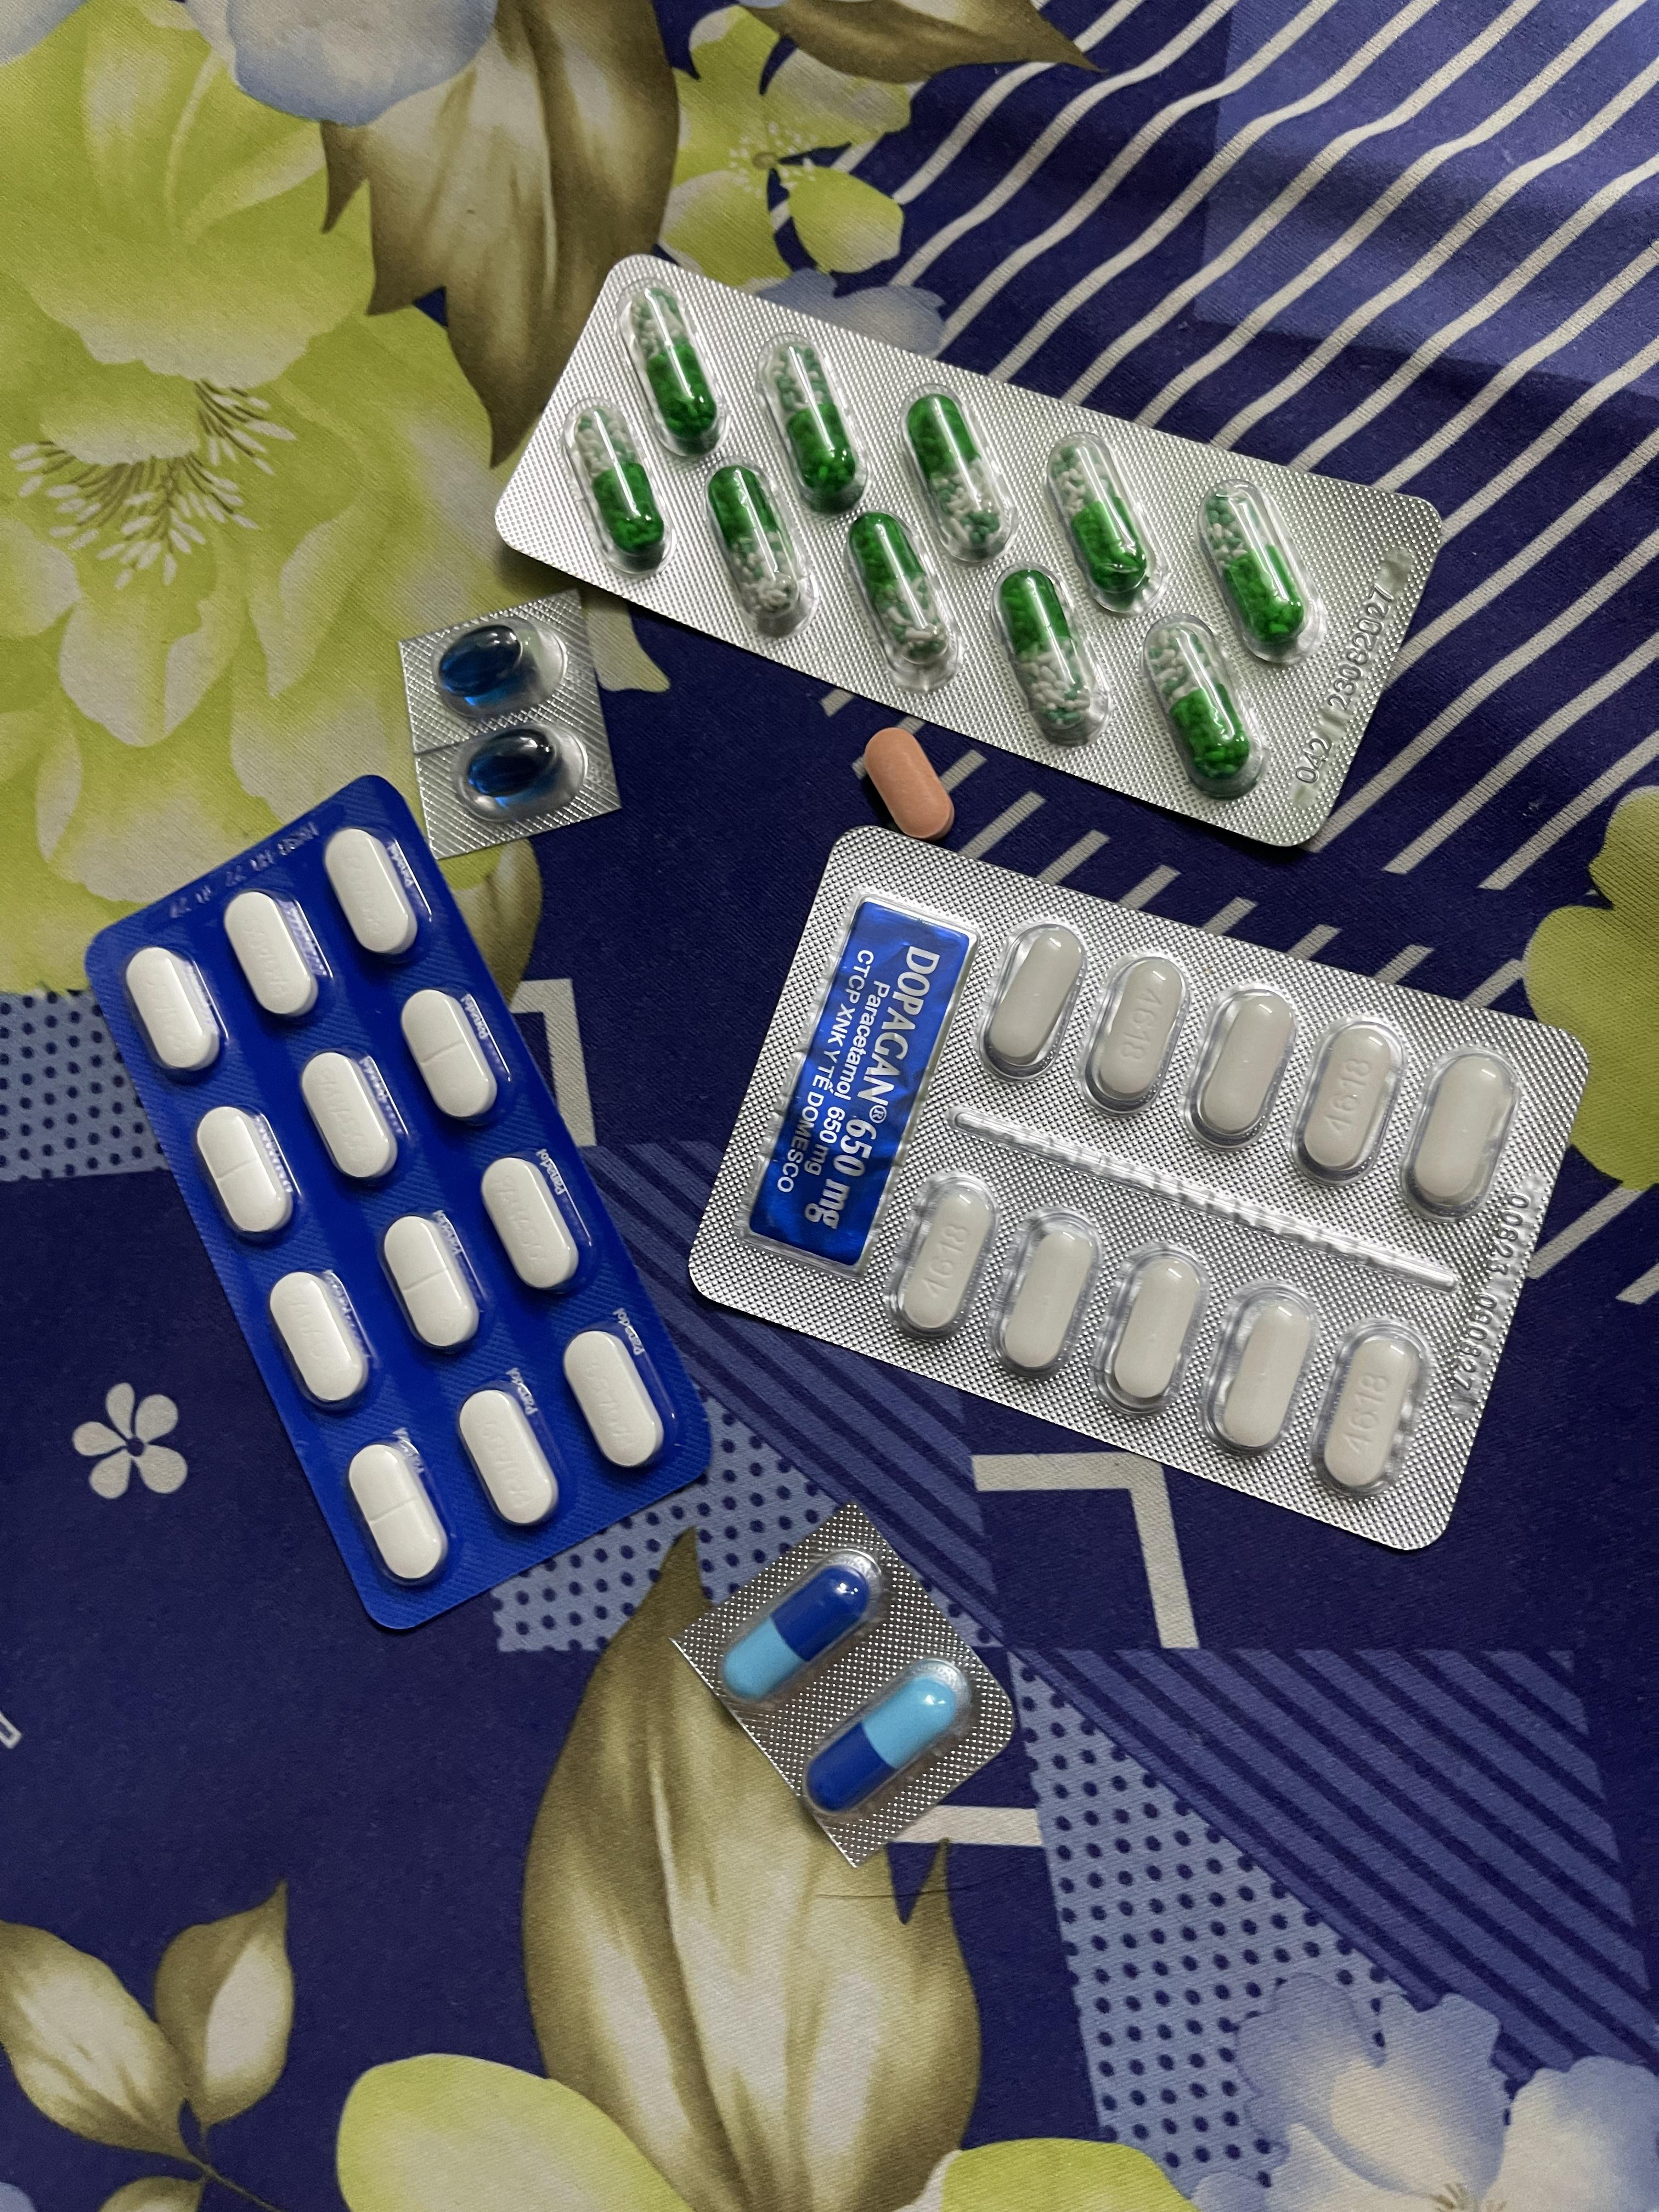Lincomyxin_500mg: (437, 625, 525, 700), (465, 732, 556, 798)
Loratadine_10mg: (863, 726, 953, 840)
Paracetamol_350mg: (563, 1329, 669, 1470), (458, 1385, 561, 1526), (347, 1439, 448, 1581), (268, 1270, 369, 1409), (382, 1211, 483, 1348), (481, 1157, 582, 1291), (401, 989, 498, 1120), (195, 1108, 293, 1238), (301, 1052, 399, 1181), (225, 892, 321, 1015), (124, 949, 220, 1071), (324, 831, 420, 951)
Paracetamol_500mg: (1312, 1313, 1436, 1500), (1399, 1045, 1523, 1221), (1291, 1015, 1410, 1183), (992, 1207, 1101, 1378), (887, 1176, 997, 1345), (1185, 982, 1298, 1146), (979, 921, 1089, 1080), (1079, 951, 1185, 1111), (1216, 1296, 1312, 1453), (1105, 1254, 1197, 1402)
Paracetamol_650mg: (1143, 613, 1263, 792), (760, 338, 871, 523), (843, 509, 955, 688), (997, 564, 1108, 744), (620, 280, 730, 460), (565, 401, 674, 575), (1047, 434, 1155, 610), (706, 463, 807, 636), (1201, 488, 1305, 644), (906, 390, 1002, 549)
pill: (809, 1655, 976, 1817), (718, 1554, 887, 1707)
